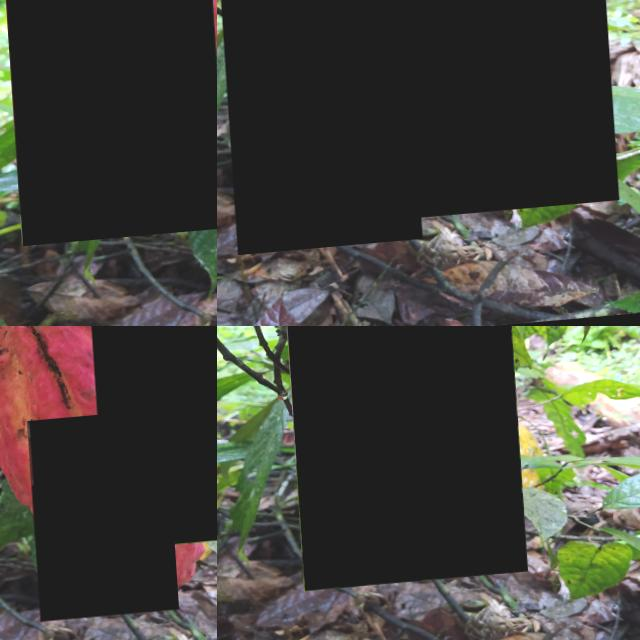Fitoftora: (87, 326, 217, 556)
Sana: (279, 326, 520, 594), (0, 0, 217, 247), (217, 0, 414, 258), (393, 0, 611, 224), (23, 416, 171, 626)
